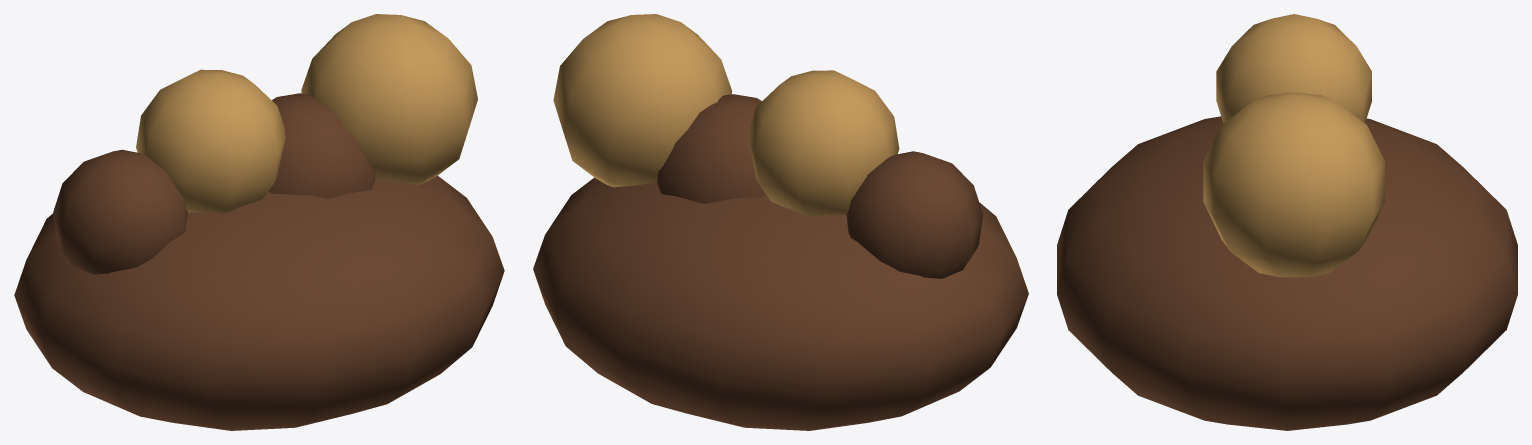
Rendered from carpenter_hair.glb.
3 views of the same model, side by side, from view 1: azimuth 30°, elevation 25°; view 2: azimuth 150°, elevation 25°; view 3: azimuth 270°, elevation 25° (orthographic). The views are drawn at different scales.
Visible parts, largest first — view 1: hair_cap, hair_detail_4, hair_detail_2, hair_detail_1, hair_detail_3; view 2: hair_cap, hair_detail_4, hair_detail_2, hair_detail_1, hair_detail_3; view 3: hair_cap, hair_detail_4, hair_detail_2.
Boxes of the visible parts, bbox=[...] form: hair_cap: bbox=[14, 175, 504, 430]; hair_detail_4: bbox=[301, 14, 477, 184]; hair_detail_2: bbox=[136, 69, 285, 213]; hair_detail_1: bbox=[53, 149, 187, 274]; hair_detail_3: bbox=[268, 93, 375, 198]; hair_cap: bbox=[533, 177, 1028, 430]; hair_detail_4: bbox=[553, 14, 732, 187]; hair_detail_2: bbox=[748, 70, 899, 216]; hair_detail_1: bbox=[846, 151, 983, 278]; hair_detail_3: bbox=[657, 94, 765, 203]; hair_cap: bbox=[1057, 116, 1517, 430]; hair_detail_4: bbox=[1203, 92, 1384, 277]; hair_detail_2: bbox=[1216, 14, 1371, 123].
Bounding box in the file's own units: 0.784 × 0.58 × 0.6824.
